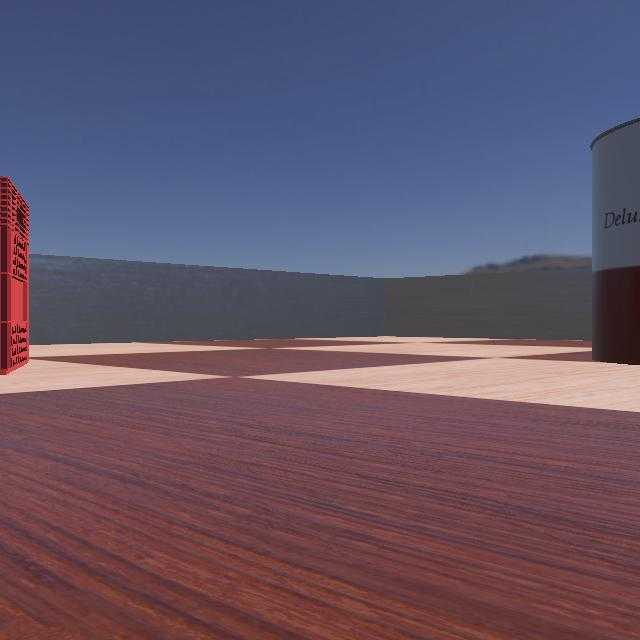paint-bucket: (536, 91, 640, 373), (536, 91, 640, 373)
plastic-crate: (1, 144, 74, 386)
